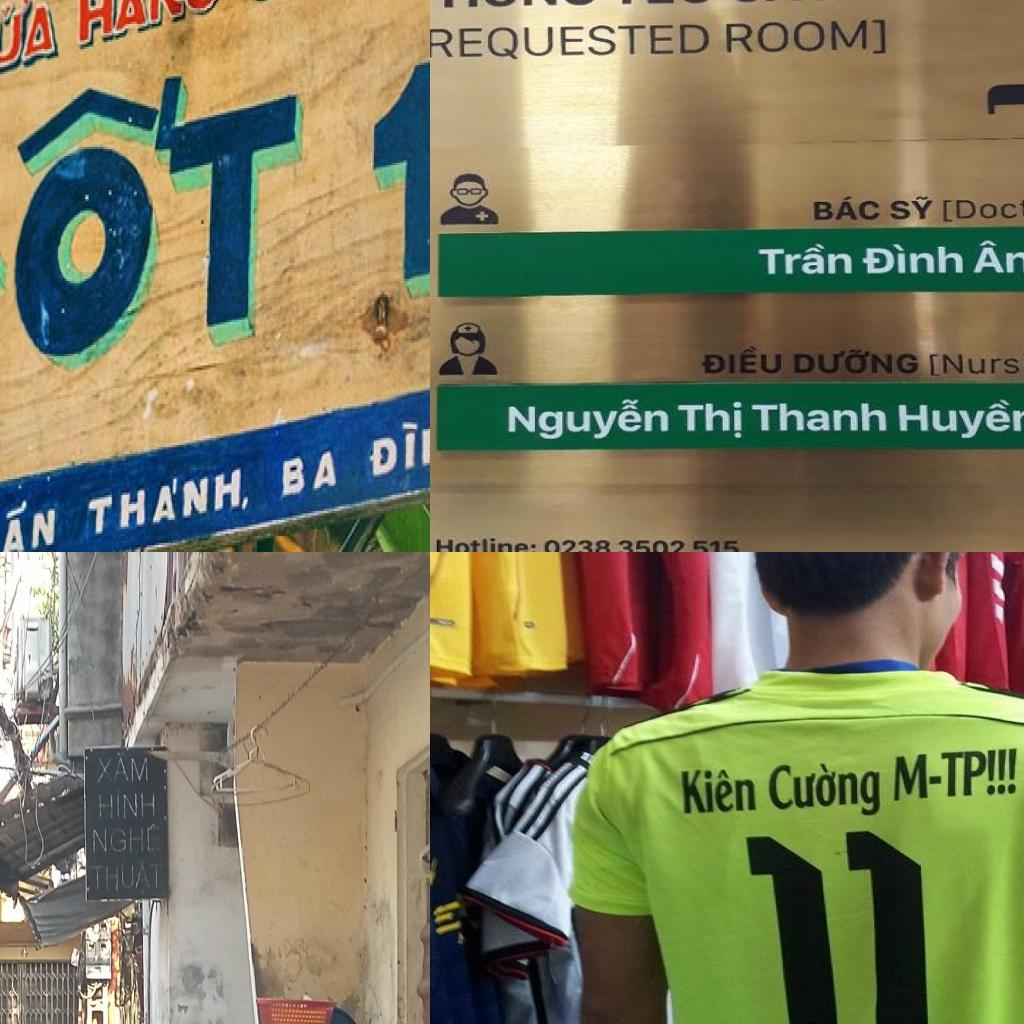text: (0, 28, 321, 474), (722, 820, 948, 1024), (80, 459, 255, 545), (430, 21, 714, 64), (763, 754, 890, 822), (502, 397, 669, 442), (884, 744, 991, 810), (722, 16, 890, 56), (896, 397, 1024, 443), (0, 0, 66, 89), (365, 401, 430, 488), (670, 759, 764, 817), (748, 402, 890, 434), (74, 0, 151, 56), (274, 443, 344, 504), (794, 345, 923, 376), (0, 492, 60, 552), (861, 244, 967, 276), (673, 398, 748, 442), (756, 244, 856, 276), (90, 819, 162, 861), (927, 351, 1024, 382), (697, 343, 785, 375), (940, 195, 1024, 224), (94, 784, 158, 822), (543, 540, 744, 552), (810, 194, 882, 224), (93, 750, 152, 786), (432, 534, 539, 552), (973, 238, 1024, 274), (889, 192, 938, 224)
